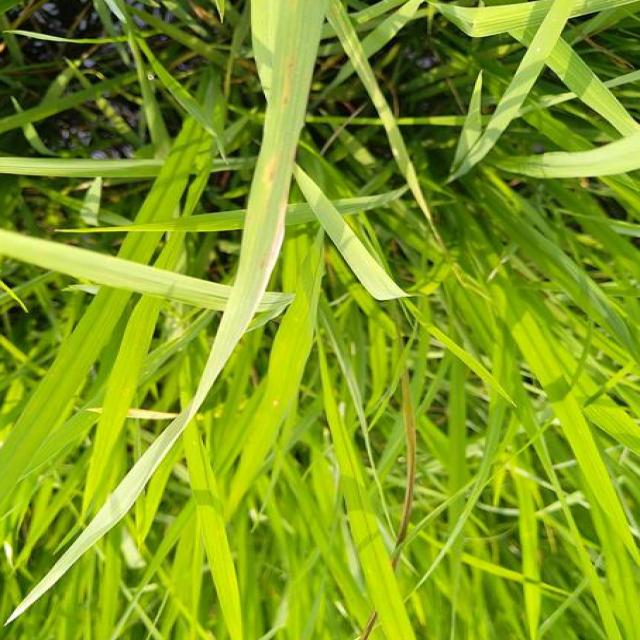Leaf Blight: (254, 53, 293, 307)
